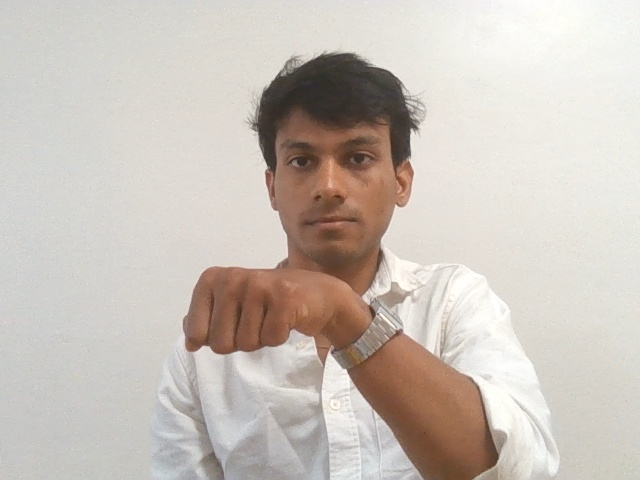Yes: (177, 250, 350, 372)
